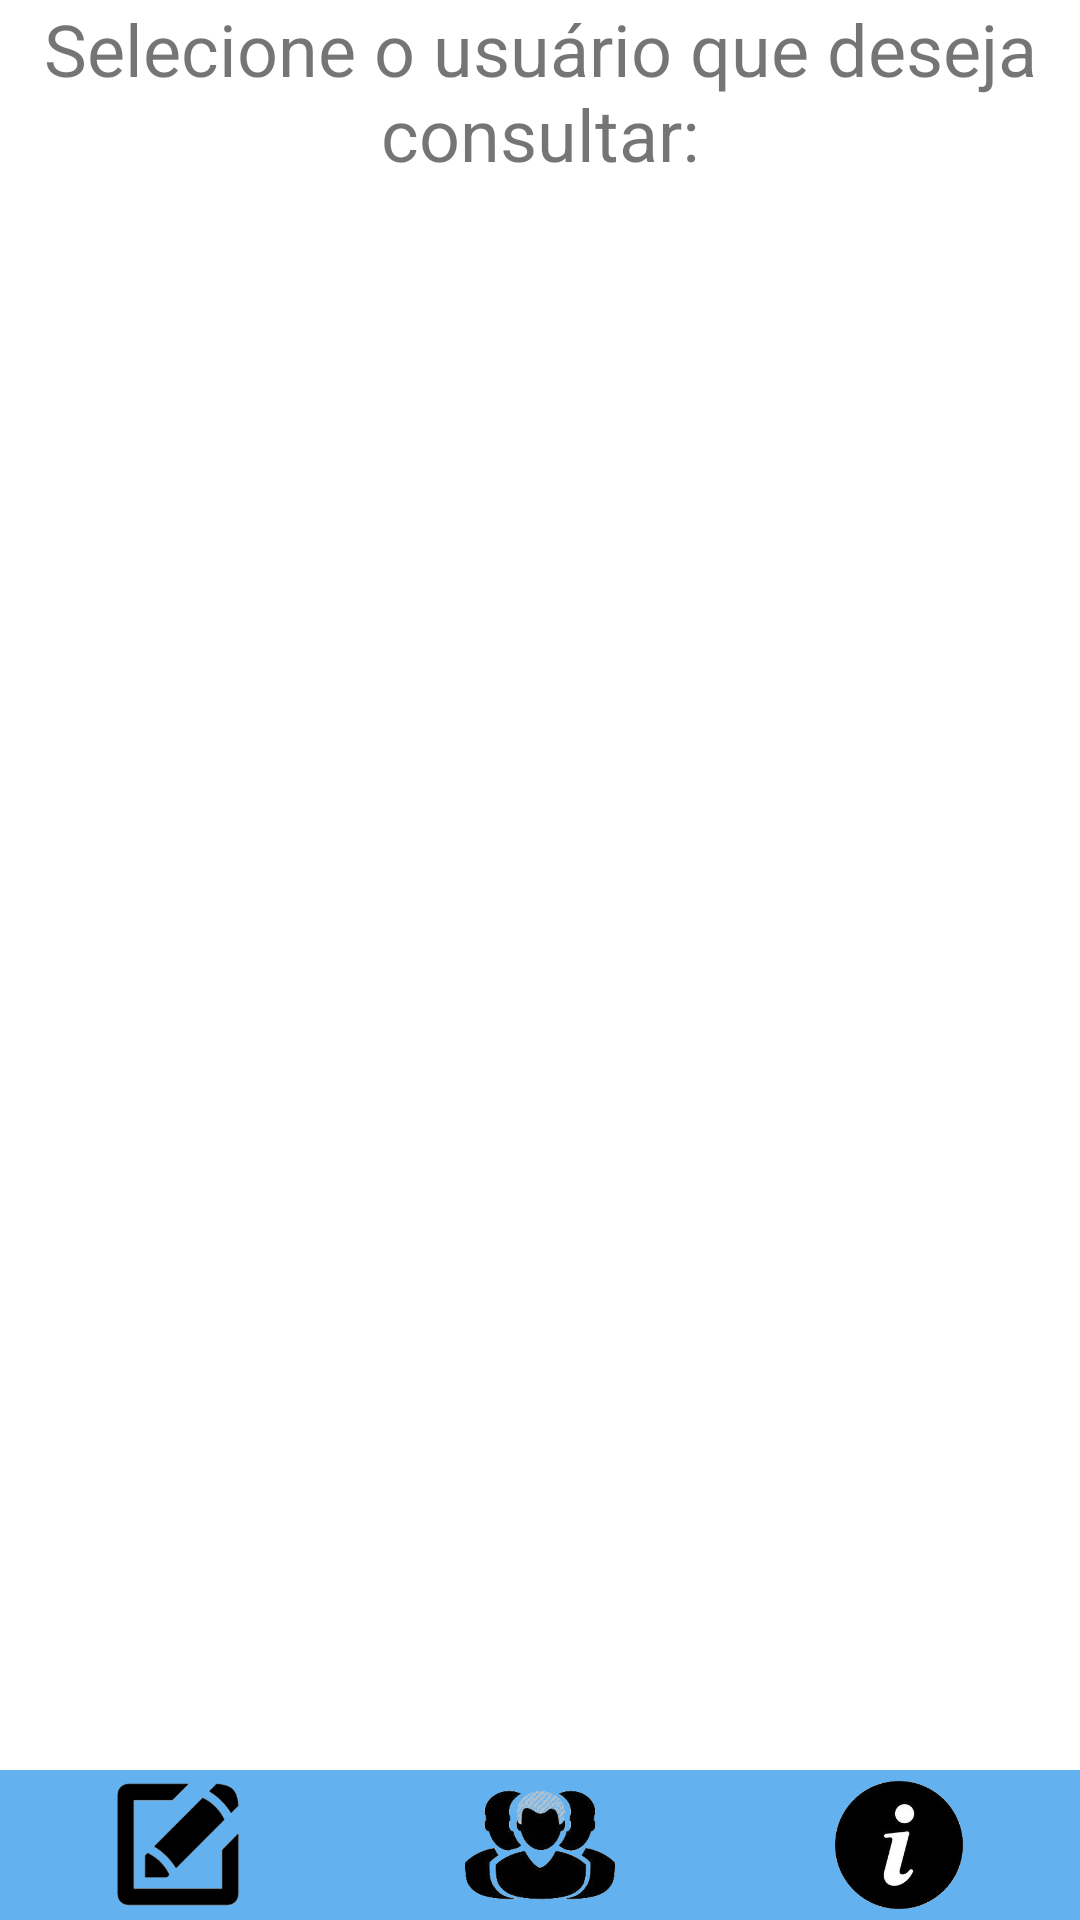

Named icons in this screenshot (1080*1920) and their centers, (x,y):
edit: (178,1844)
info: (899,1845)
users: (540,1845)
